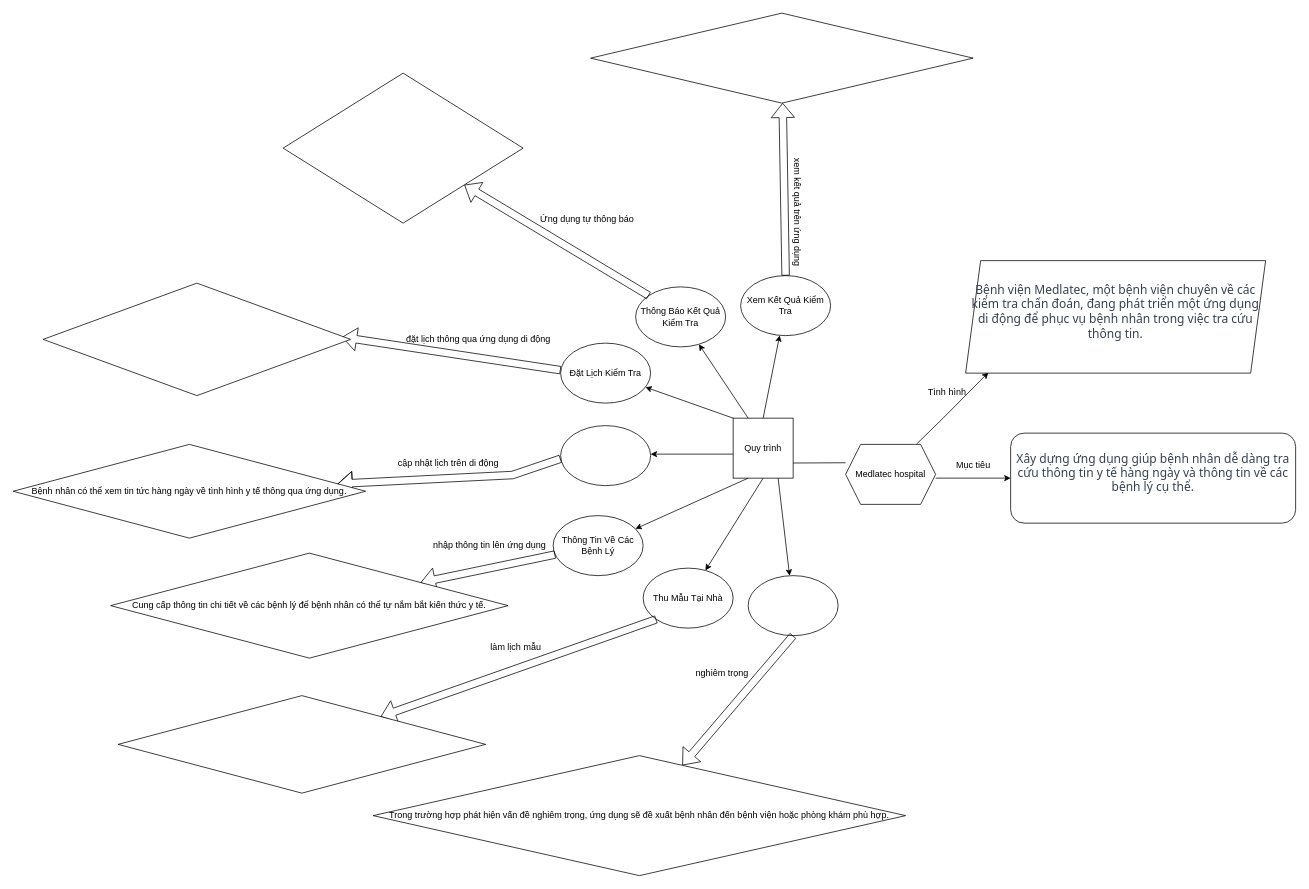
The diagram is 1309 pixels wide and 889 high, and some of its shapes have lost their labels. The shapes that lost their labels are listed below. From the top down, each one's centre as x and y in pixels, then its label:
the point at 781,57: Bệnh nhân chỉ cần nhập thông tin cần thiết vào ứng dụng để xem kết quả kiểm tra.
the point at 402,147: Ứng dụng sẽ thông báo khi kết quả kiểm tra đã sẵn có.
the point at 196,339: Bệnh nhân có thể đặt lịch kiểm tra y tế thông qua ứng dụng di động.
the point at 605,455: Xem Tin Tức Y Tế:
the point at 792,605: Gợi Ý Đến Bệnh Viện
the point at 301,744: Nhân viên bệnh viện sẽ đến tận nơi của bệnh nhân để thu mẫu khi đã đặt lịch.
